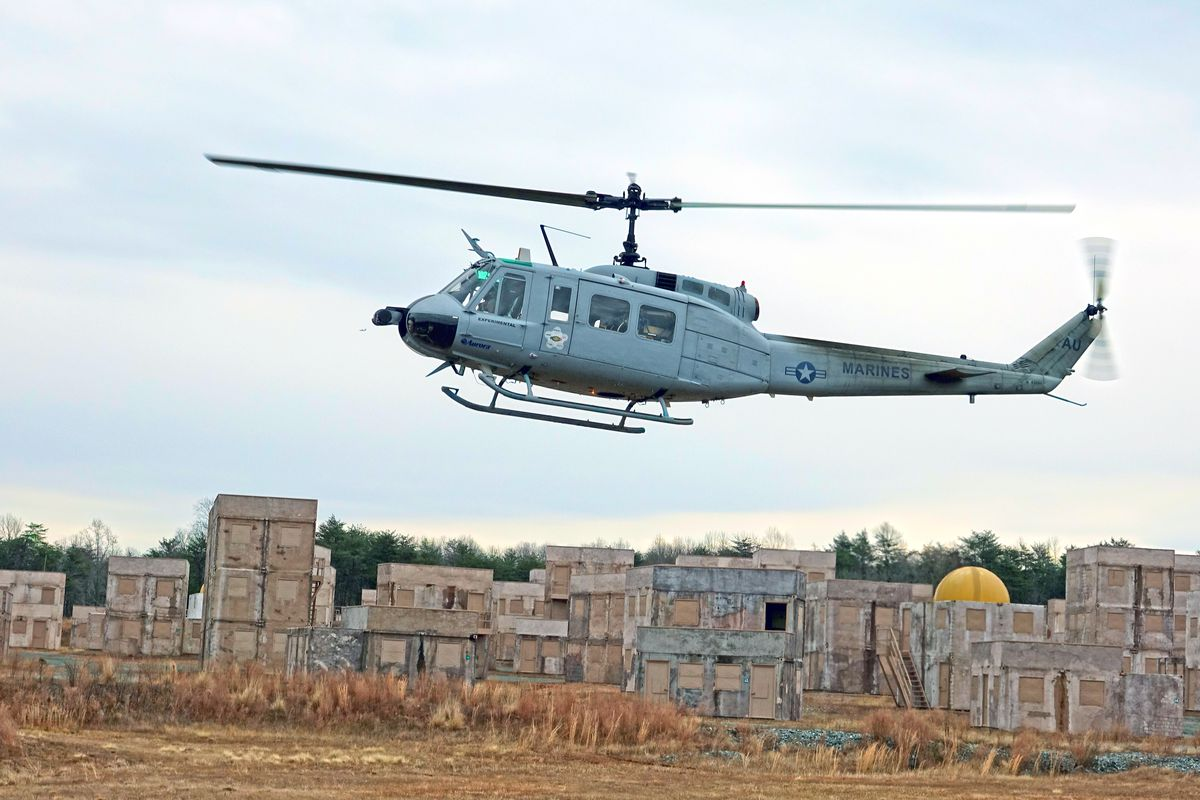Helicopter: (216, 125, 1139, 449)
